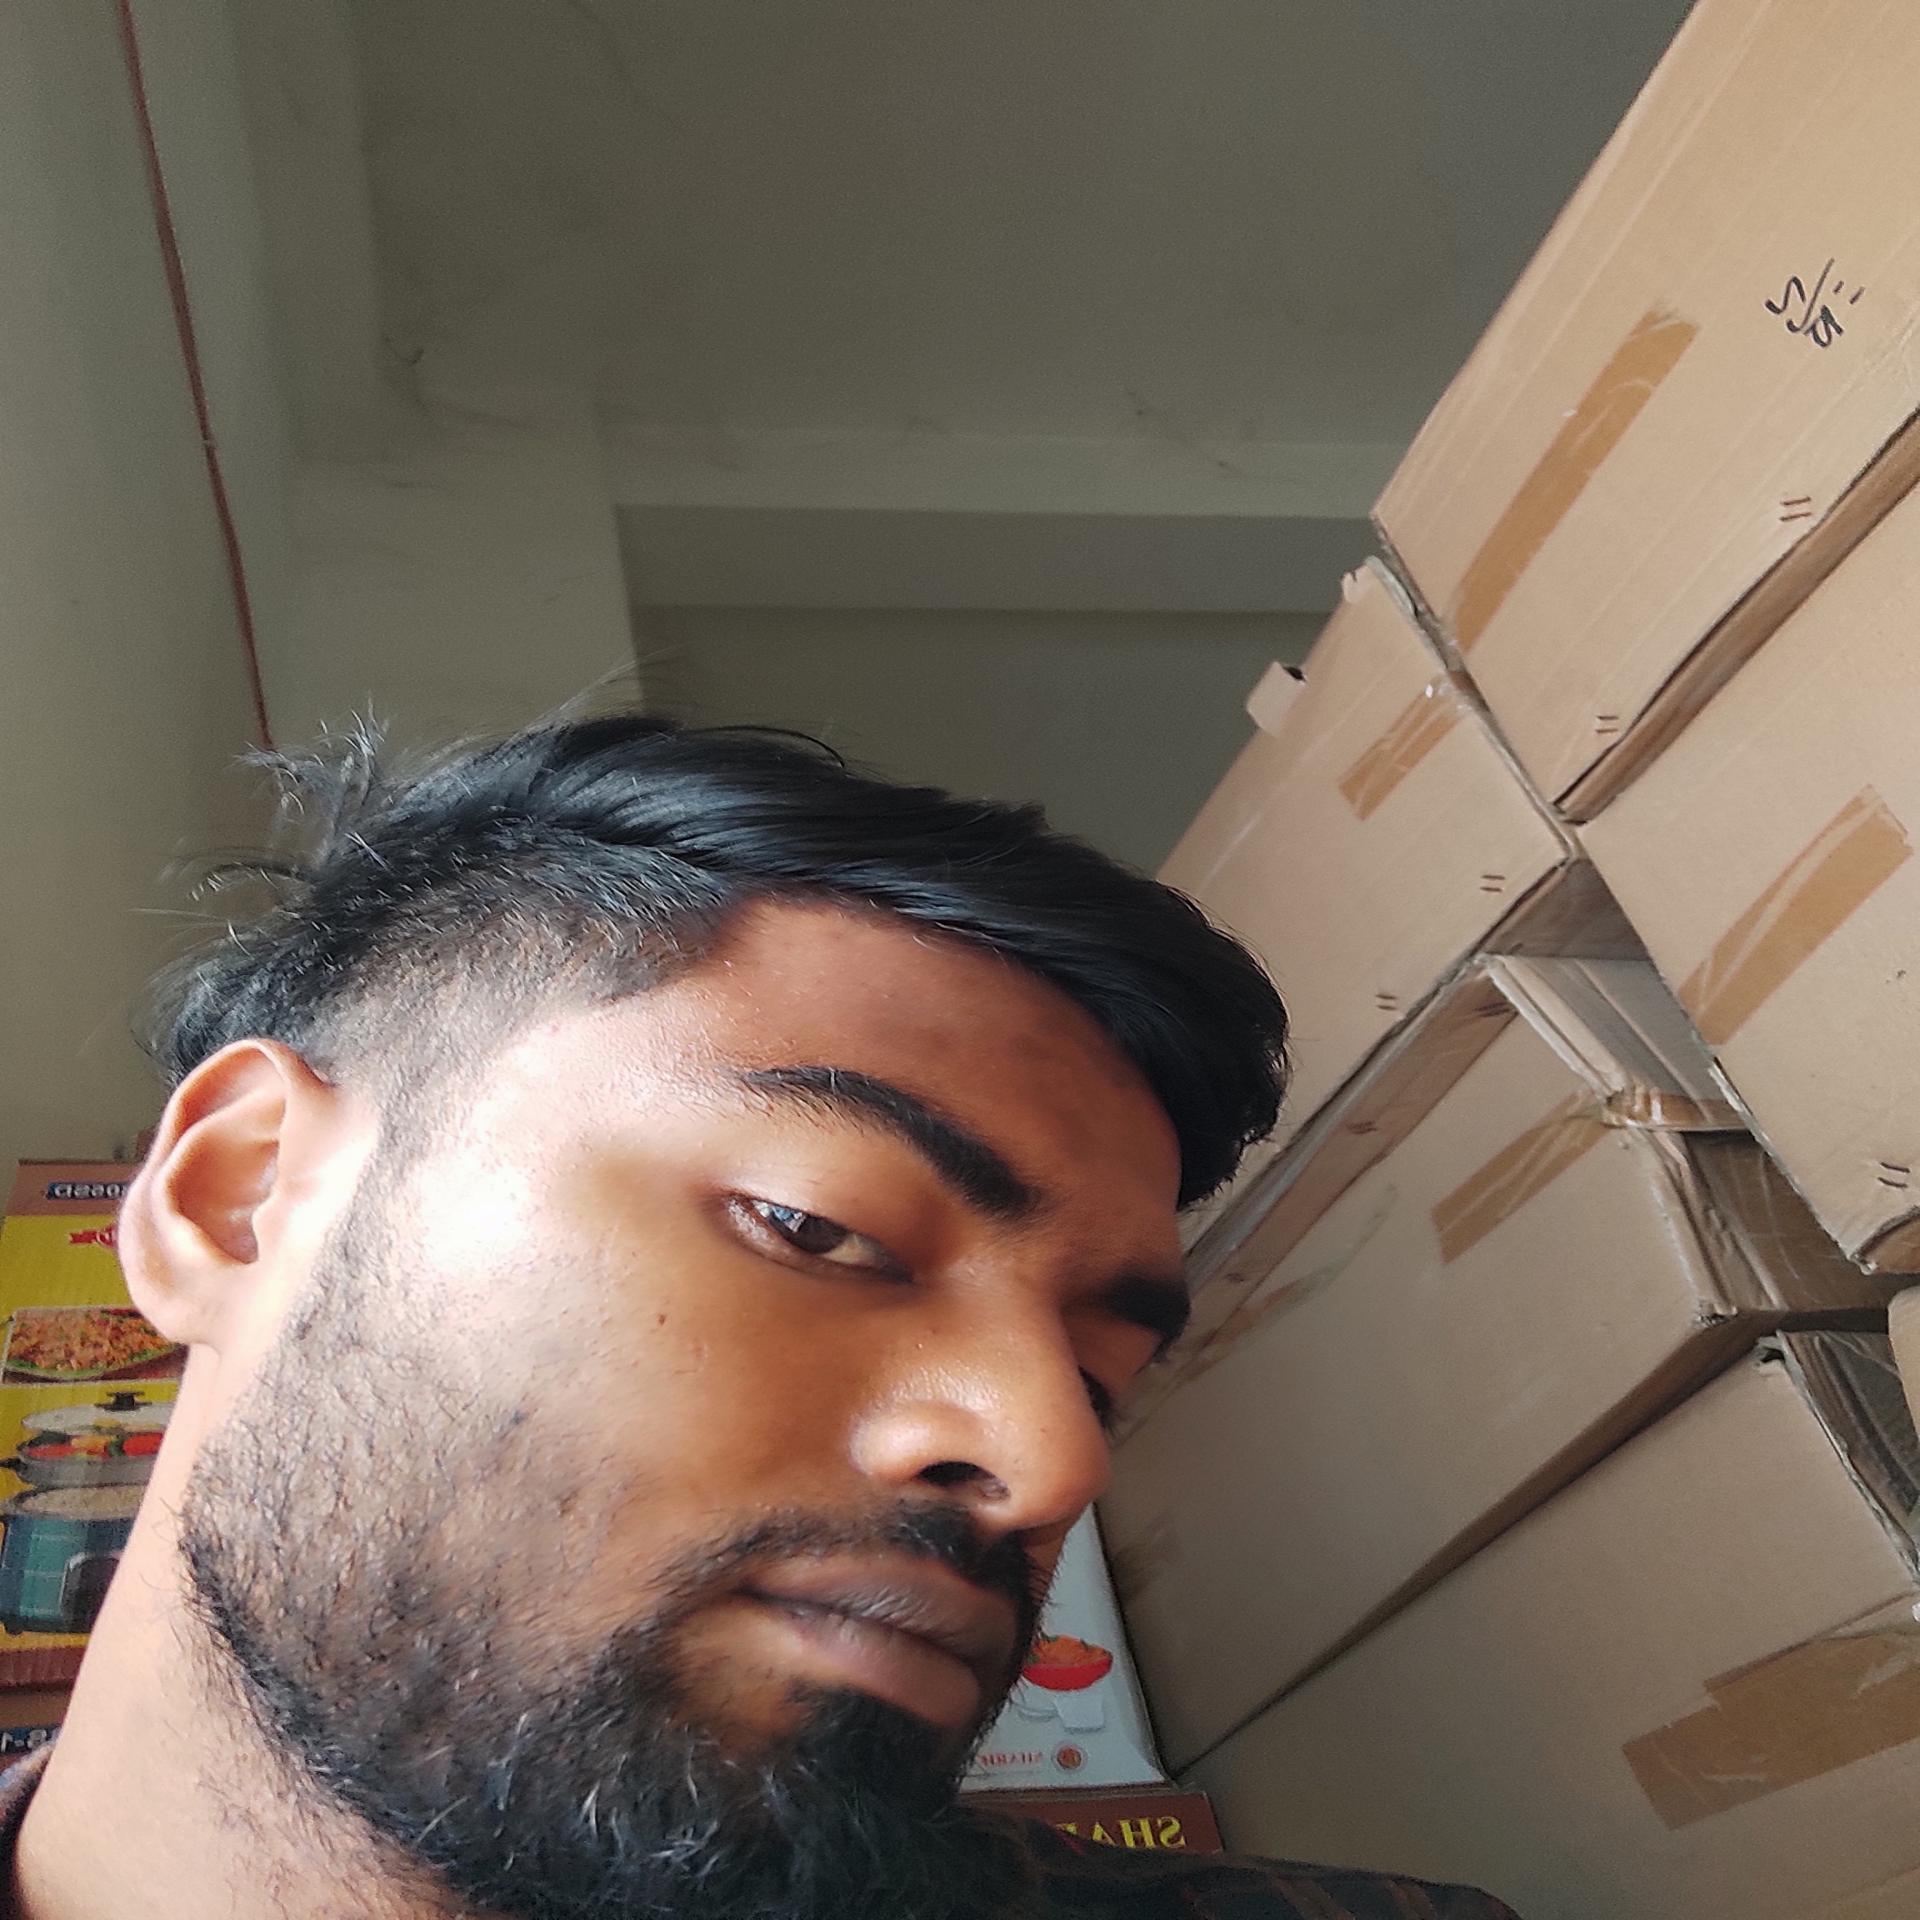Acne: (900, 1363, 1011, 1394)
